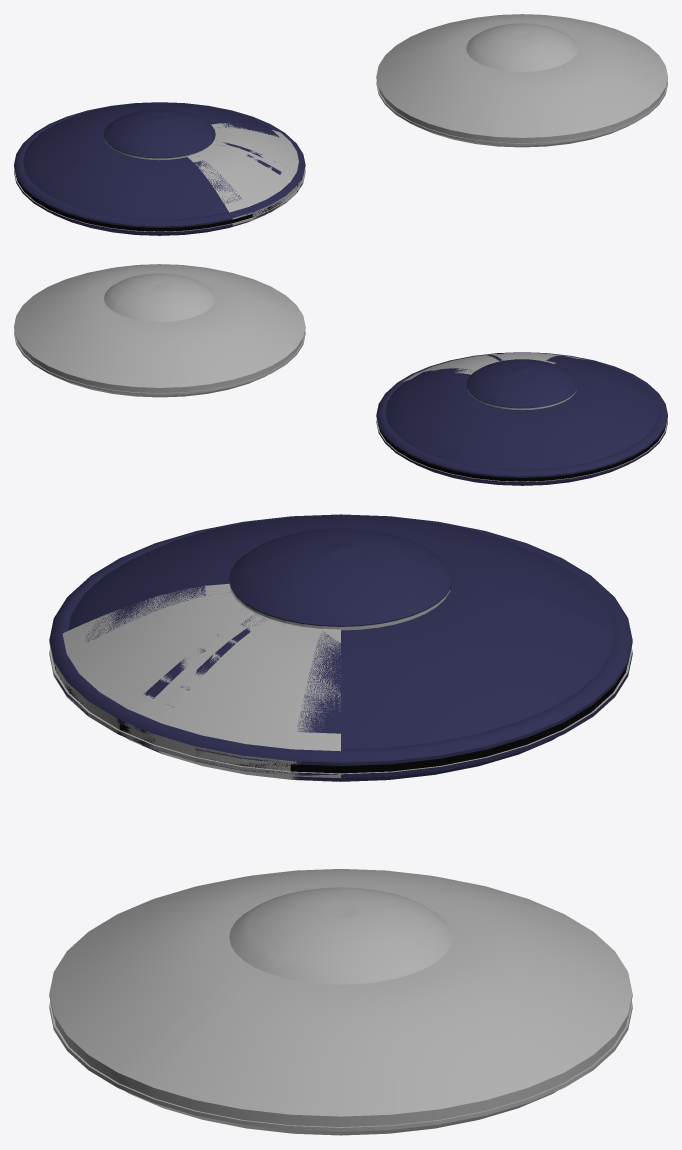
Rendered from SpaceShip1.fbx.
3 renders of one model, top to bottom at view 1: azimuth 30°, elevation 25°; view 2: azimuth 150°, elevation 25°; view 3: azimuth 270°, elevation 25°, orthographic. The views are drawn at different scales.
Parts seen in each view (by area): view 1: pCylinder2, pCylinder8, pCylinder4; view 2: pCylinder2, pCylinder8, pCylinder4; view 3: pCylinder2, pCylinder8, pCylinder4.
Part boxes in pixels (x1,y1,x2,y2): pCylinder2: [376, 14, 667, 147]; pCylinder8: [14, 102, 305, 235]; pCylinder4: [188, 123, 305, 225]; pCylinder2: [14, 264, 305, 397]; pCylinder8: [376, 352, 667, 485]; pCylinder4: [402, 352, 585, 381]; pCylinder2: [49, 869, 632, 1135]; pCylinder8: [49, 514, 632, 781]; pCylinder4: [49, 583, 340, 780].
Bounding box in the file's own units: 33.5 × 3.75 × 13.76.
